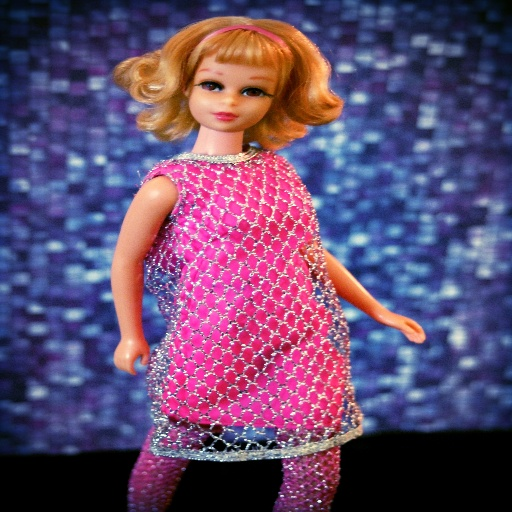hand: (365, 292, 421, 334), (110, 339, 153, 379)
